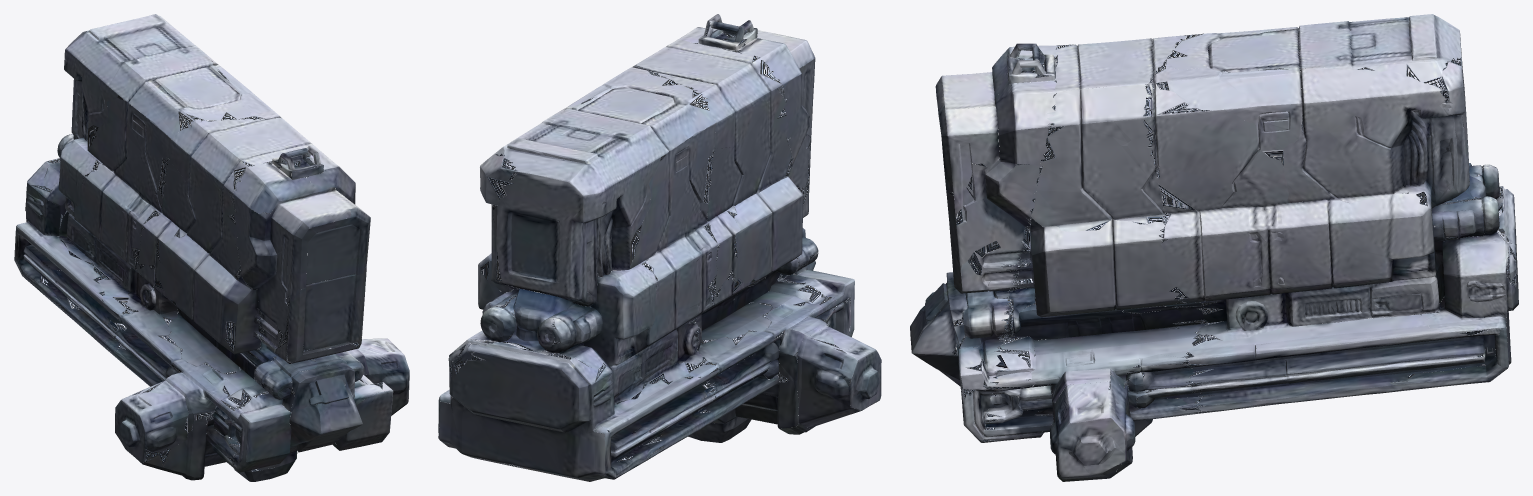
The model's file is HL_WPN_GrayModules_03.glb.
The picture shows the model from 3 angles, left to right: view 1: azimuth 30°, elevation 25°; view 2: azimuth 150°, elevation 25°; view 3: azimuth 270°, elevation 25°; orthographic projection. The views are drawn at different scales.
Visible parts, largest first — view 1: meshes[0]; view 2: meshes[0]; view 3: meshes[0].
Boxes of the visible parts, box(x1,y1,x2,y2) form: meshes[0]: box(14, 14, 409, 481); meshes[0]: box(438, 14, 881, 481); meshes[0]: box(910, 14, 1518, 481).
Size of the model in its own units: 0.2276 by 0.2709 by 0.3551.
Materials: 1 (1 with a texture image).
